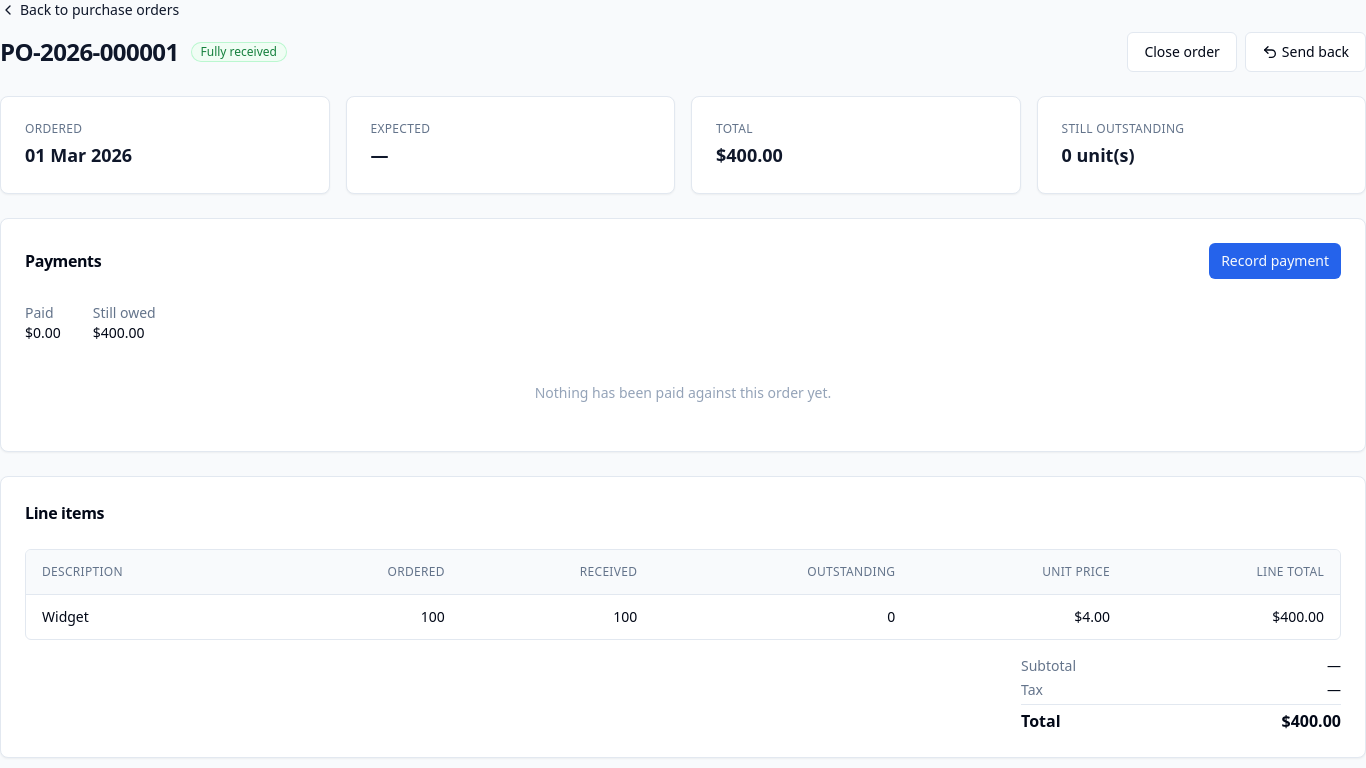
Scenario: sending goods back › will not send an empty return
Click the button "Send back".
click(1305, 52)  # box [1245,32,1365,72]
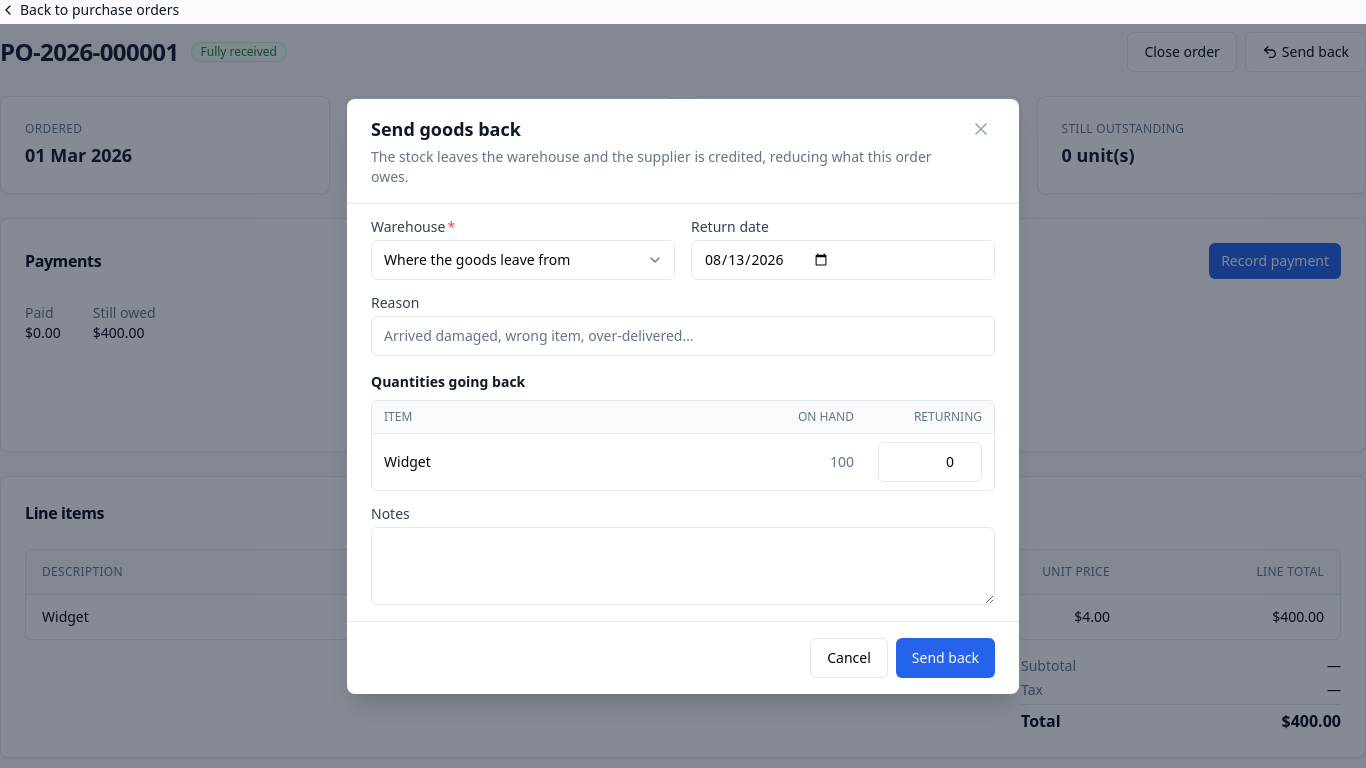
Select "MAIN — Main" in the dropdown named "Warehouse" at (523, 260), box [371,240,675,280]
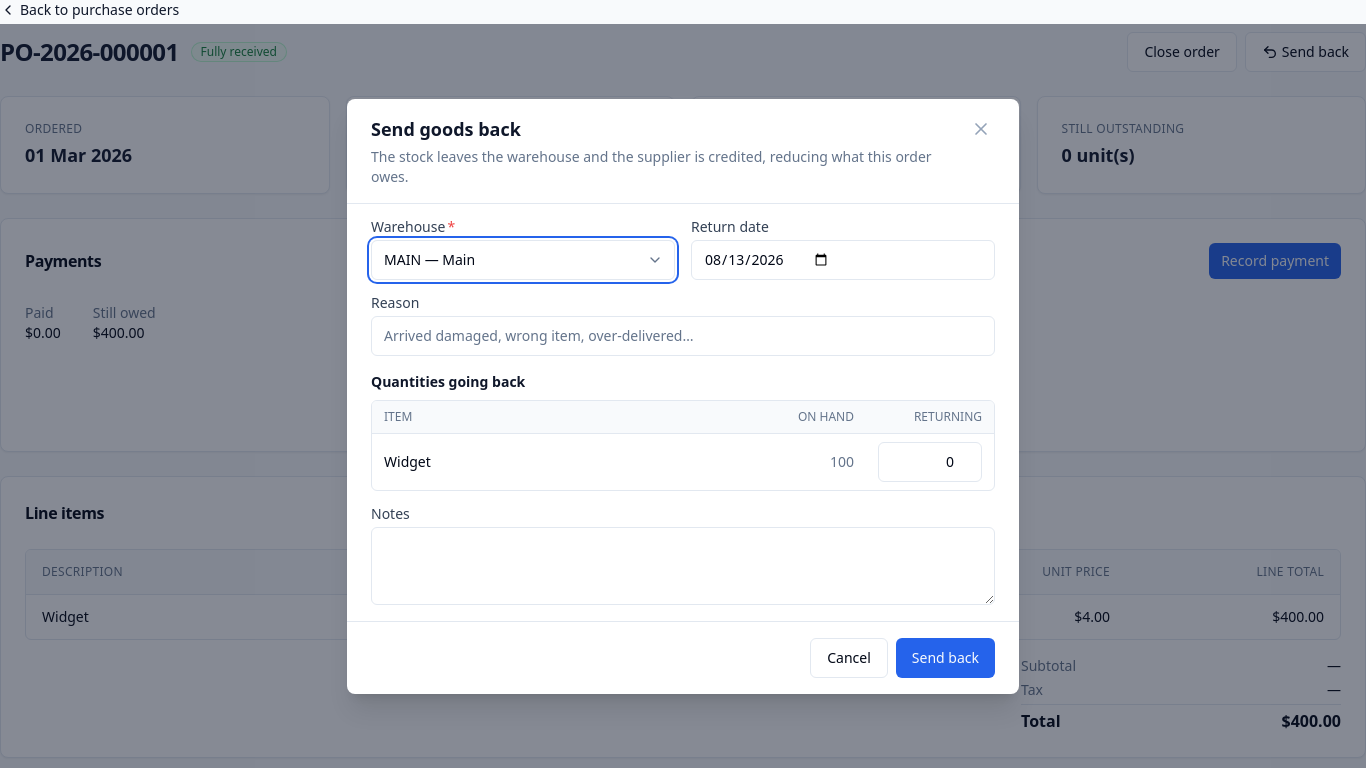
Click the button "Send back".
click(945, 658)  # box [896,638,995,678]
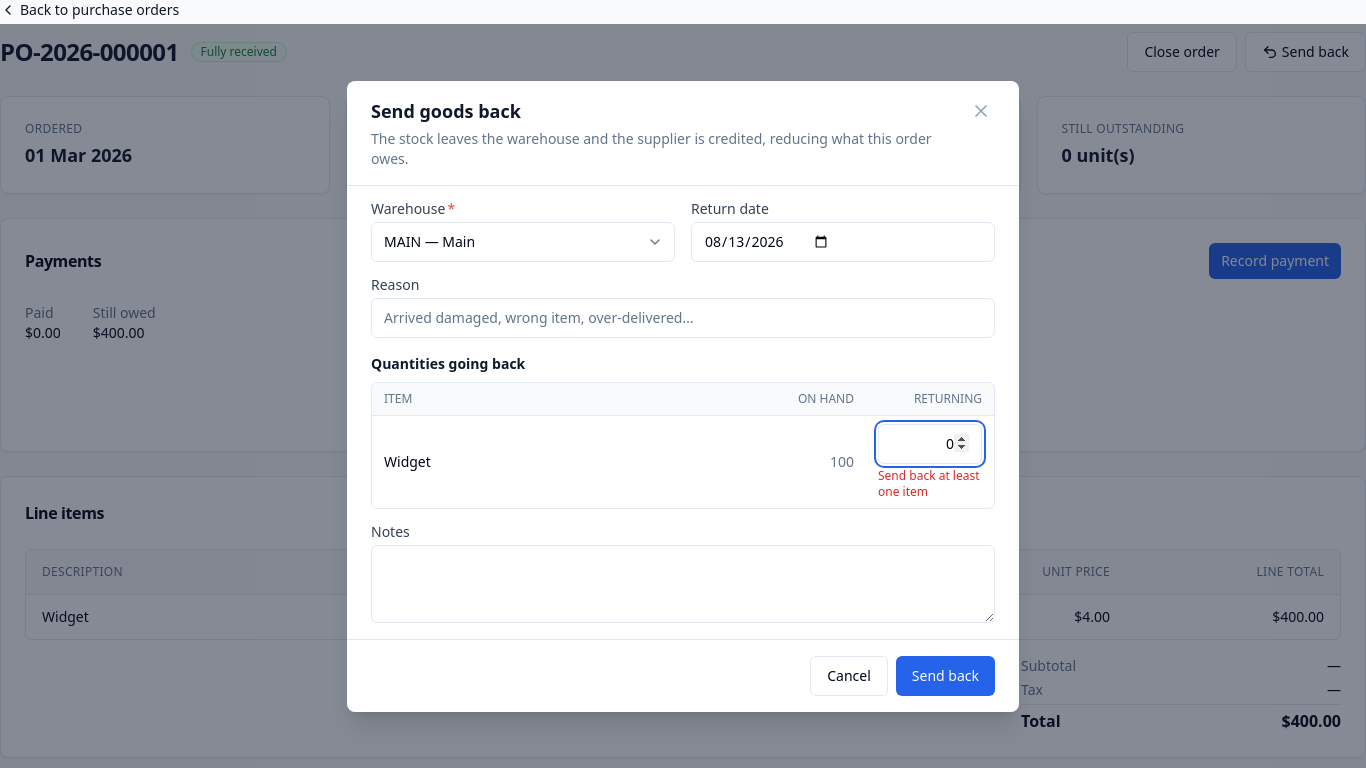
Result: the text "Send back at least one item" is shown at [878,468,982,500]
